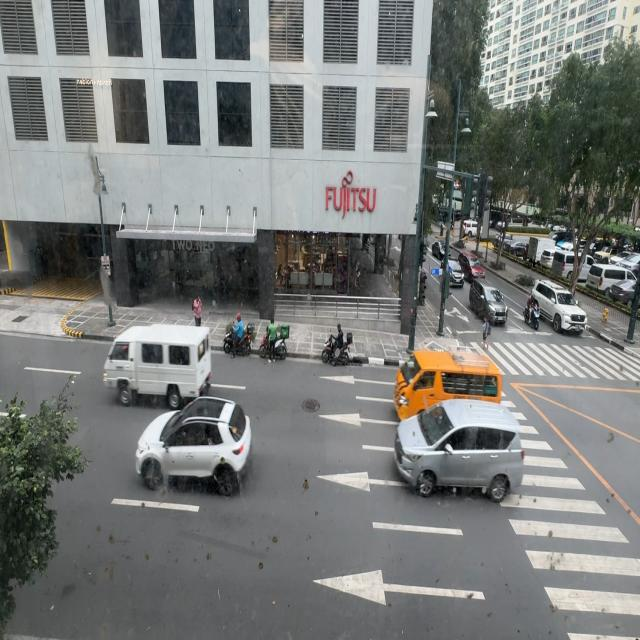crossing: (482, 315, 491, 348)
pedestrain: (192, 296, 202, 326)
